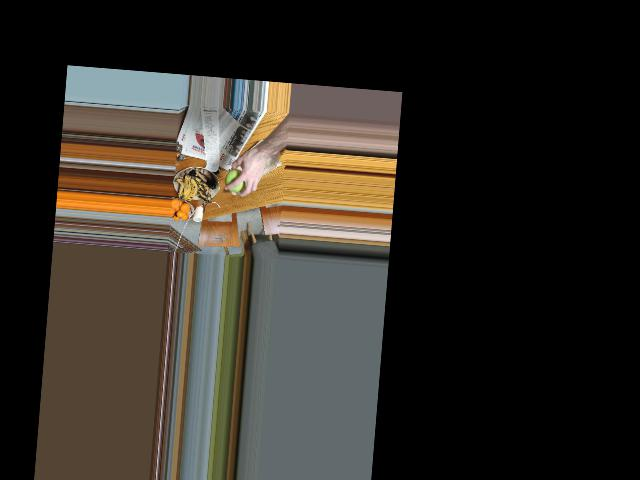apple: (224, 166, 249, 194)
